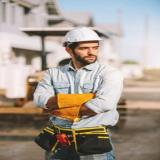Helmet: (62, 26, 106, 46)
